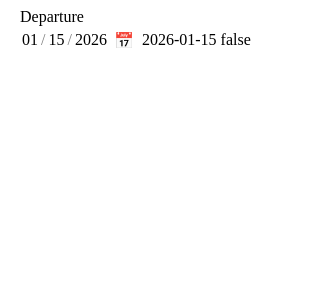
Test: DatePicker › marks the shared value as selected in the calendar
Click the button named "Open calendar". click: coordinates (124, 40)
box: left=110, top=26, right=138, bottom=54
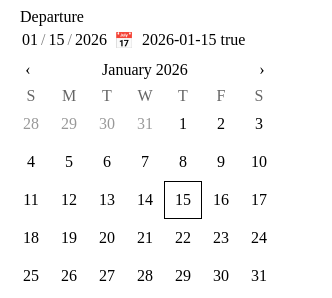
Check: the button with class "sve-calendar__day" reads "15", box left=164, top=181, right=202, bottom=219
